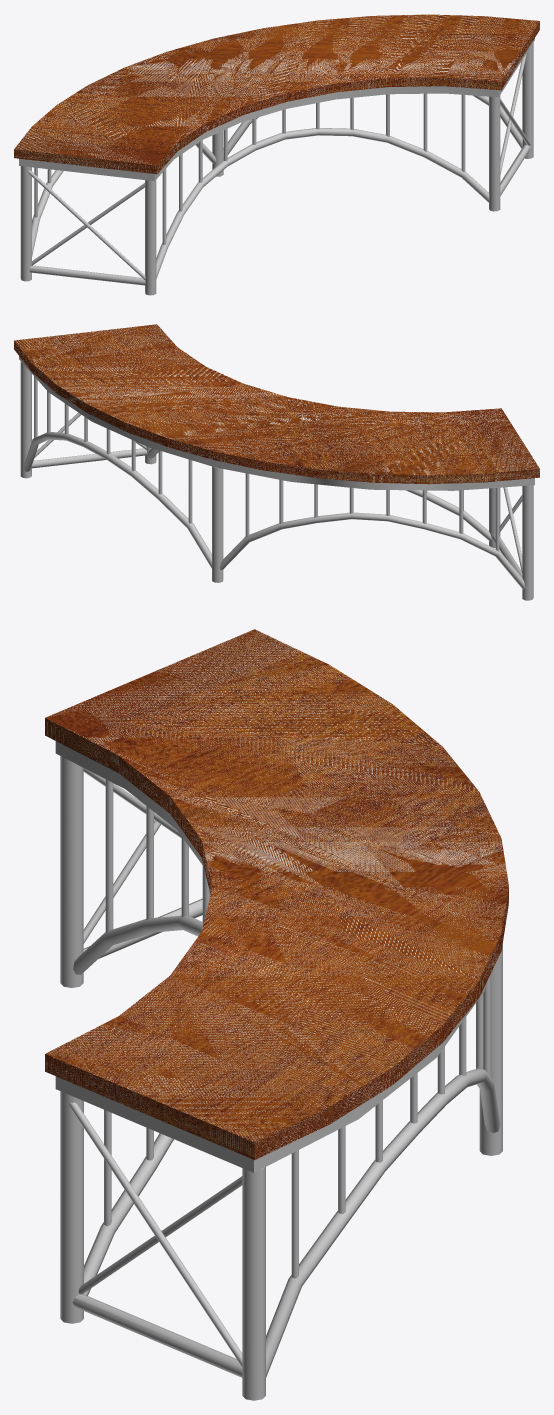
3 renders of one model, top to bottom at view 1: azimuth 30°, elevation 25°; view 2: azimuth 150°, elevation 25°; view 3: azimuth 270°, elevation 25°, orthographic. The views are drawn at different scales.
Visible parts, largest first — view 1: mesh119_mesh119-geometry, mesh1_mesh1-geometry, mesh27_mesh27-geometry, mesh23_mesh23-geometry, mesh15_mesh15-geometry, mesh26_mesh26-geometry, mesh10_mesh10-geometry, mesh22_mesh22-geometry, mesh3_mesh3-geometry, mesh24_mesh24-geometry, mesh5_mesh5-geometry, mesh25_mesh25-geometry (+3 smaller); view 2: mesh119_mesh119-geometry, mesh1_mesh1-geometry, mesh3_mesh3-geometry, mesh5_mesh5-geometry, mesh26_mesh26-geometry, mesh19_mesh19-geometry, mesh10_mesh10-geometry, mesh9_mesh9-geometry, mesh27_mesh27-geometry, mesh23_mesh23-geometry, mesh25_mesh25-geometry; view 3: mesh119_mesh119-geometry, mesh1_mesh1-geometry, mesh5_mesh5-geometry, mesh10_mesh10-geometry, mesh23_mesh23-geometry, mesh15_mesh15-geometry, mesh27_mesh27-geometry, mesh9_mesh9-geometry, mesh19_mesh19-geometry, mesh11_mesh11-geometry, mesh18_mesh18-geometry, mesh24_mesh24-geometry.
Boxes of the visible parts, <box> form: mesh119_mesh119-geometry: <box>14,14,539,174</box>; mesh1_mesh1-geometry: <box>19,38,534,244</box>; mesh27_mesh27-geometry: <box>156,128,489,278</box>; mesh23_mesh23-geometry: <box>145,180,156,295</box>; mesh15_mesh15-geometry: <box>489,95,500,211</box>; mesh26_mesh26-geometry: <box>20,166,31,281</box>; mesh10_mesh10-geometry: <box>522,43,533,158</box>; mesh22_mesh22-geometry: <box>29,265,145,285</box>; mesh3_mesh3-geometry: <box>32,143,216,256</box>; mesh24_mesh24-geometry: <box>27,170,145,280</box>; mesh5_mesh5-geometry: <box>223,95,522,159</box>; mesh25_mesh25-geometry: <box>31,183,145,265</box>; mesh119_mesh119-geometry: <box>14,324,539,484</box>; mesh1_mesh1-geometry: <box>19,356,534,551</box>; mesh3_mesh3-geometry: <box>219,512,525,589</box>; mesh5_mesh5-geometry: <box>23,432,212,568</box>; mesh26_mesh26-geometry: <box>522,485,533,600</box>; mesh19_mesh19-geometry: <box>212,466,223,582</box>; mesh10_mesh10-geometry: <box>20,361,31,478</box>; mesh9_mesh9-geometry: <box>31,448,147,468</box>; mesh27_mesh27-geometry: <box>147,448,491,541</box>; mesh23_mesh23-geometry: <box>489,487,500,547</box>; mesh25_mesh25-geometry: <box>503,487,522,573</box>; mesh119_mesh119-geometry: <box>45,629,508,1160</box>; mesh1_mesh1-geometry: <box>55,741,490,1278</box>; mesh5_mesh5-geometry: <box>266,1068,500,1377</box>; mesh10_mesh10-geometry: <box>242,1167,265,1400</box>; mesh23_mesh23-geometry: <box>60,756,83,987</box>; mesh15_mesh15-geometry: <box>60,1091,83,1323</box>; mesh27_mesh27-geometry: <box>73,915,202,1295</box>; mesh9_mesh9-geometry: <box>72,1294,242,1377</box>; mesh19_mesh19-geometry: <box>479,943,502,1155</box>; mesh11_mesh11-geometry: <box>69,1102,242,1366</box>; mesh18_mesh18-geometry: <box>78,1176,242,1294</box>; mesh24_mesh24-geometry: <box>83,820,160,943</box>.
Size of the model in its own units: 0.9114 by 0.2195 by 0.3481.
